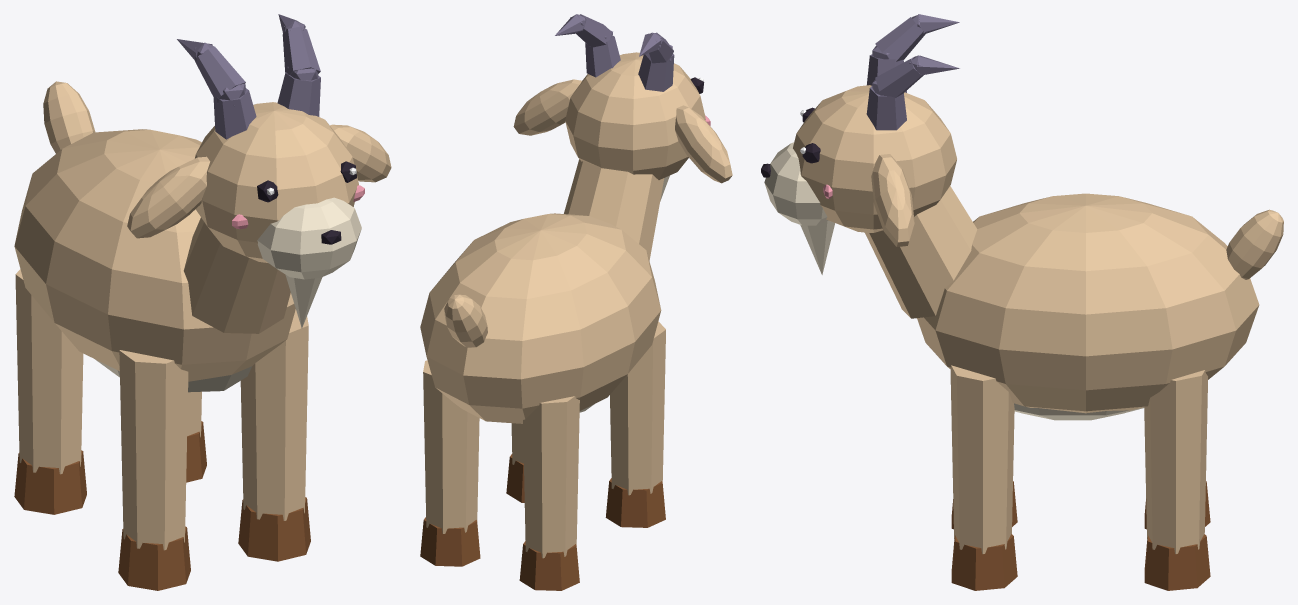
Rendered from goat.glb.
3 renders of one model, left to right at view 1: azimuth 30°, elevation 25°; view 2: azimuth 150°, elevation 25°; view 3: azimuth 270°, elevation 25°, orthographic. The views are drawn at different scales.
Parts seen in each view (by area): view 1: body, head; view 2: body, head; view 3: body, head.
Boxes of the visible parts, left/top/right/bottom form: body: left=14, top=81, right=310, bottom=590; head: left=127, top=14, right=391, bottom=333; body: left=420, top=213, right=665, bottom=590; head: left=513, top=14, right=732, bottom=260; body: left=917, top=193, right=1283, bottom=590; head: left=761, top=14, right=977, bottom=318.
Bounding box in the file's own units: 0.4352 × 0.883 × 0.8134.
